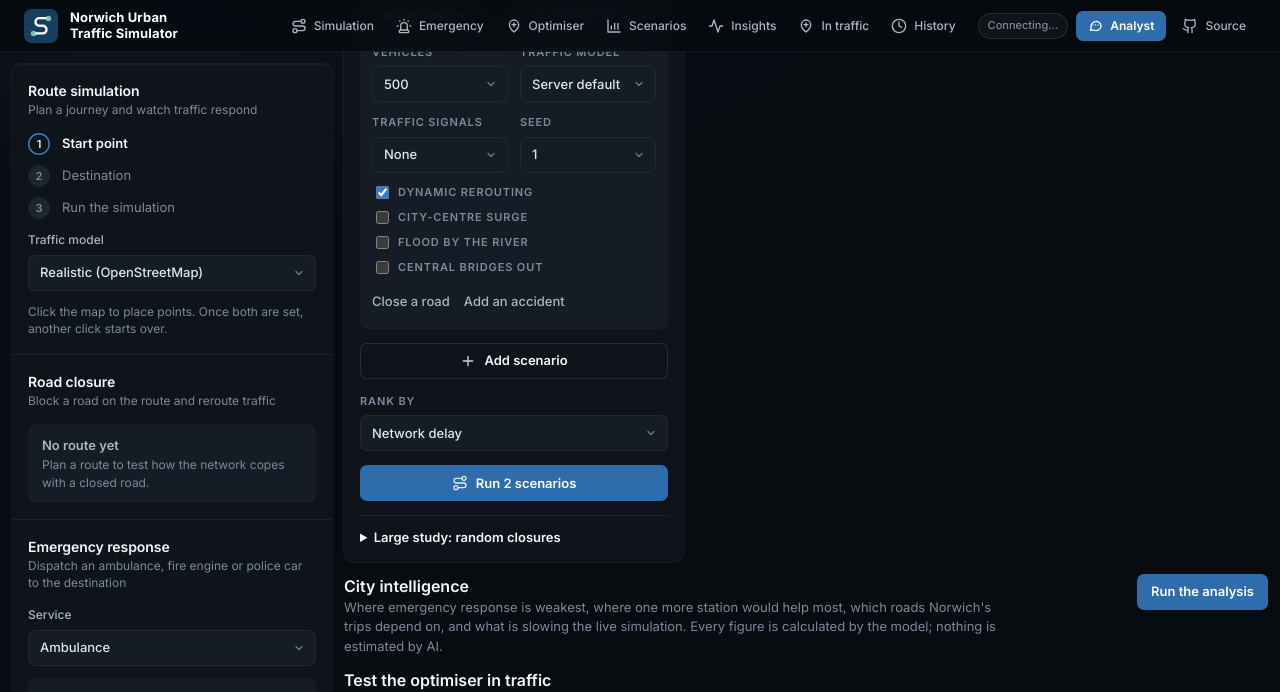
Test case: building scenarios › adds and removes scenarios
(page scrolled)
Click the button "Add scenario" at (514, 361), box 360,343 -> 668,379
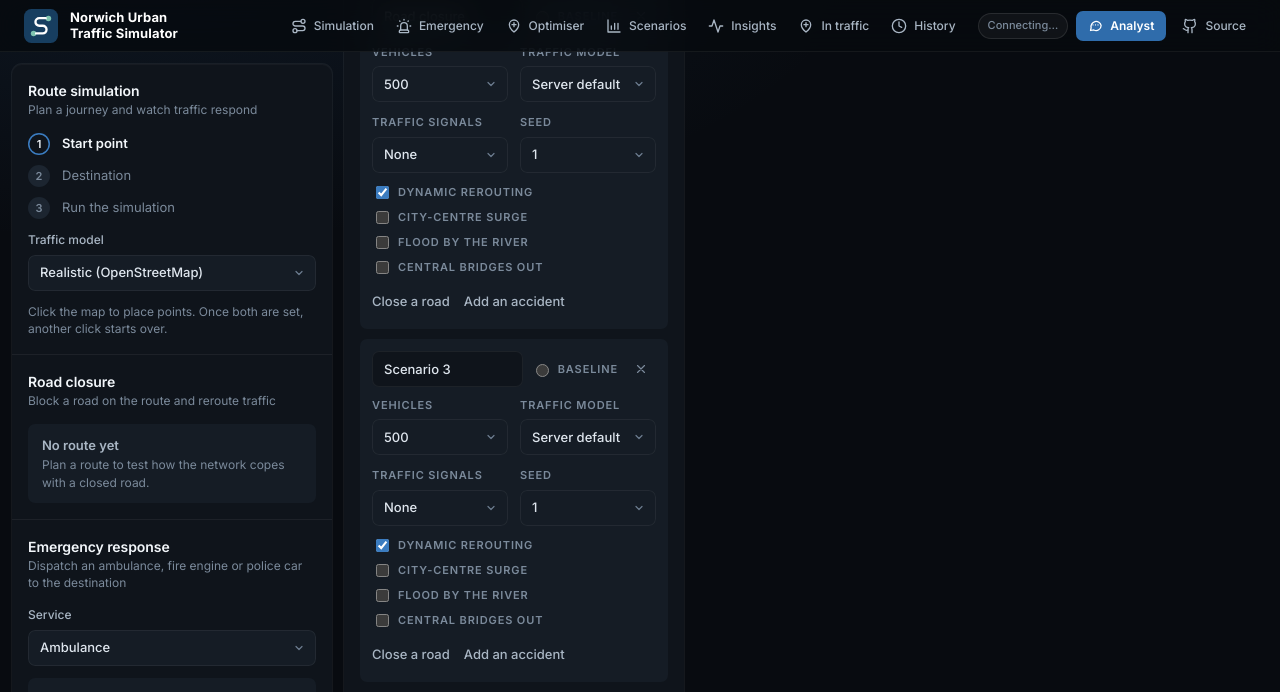
Click the button named "Remove Scenario 3" at (641, 369), box 626,354 -> 656,384
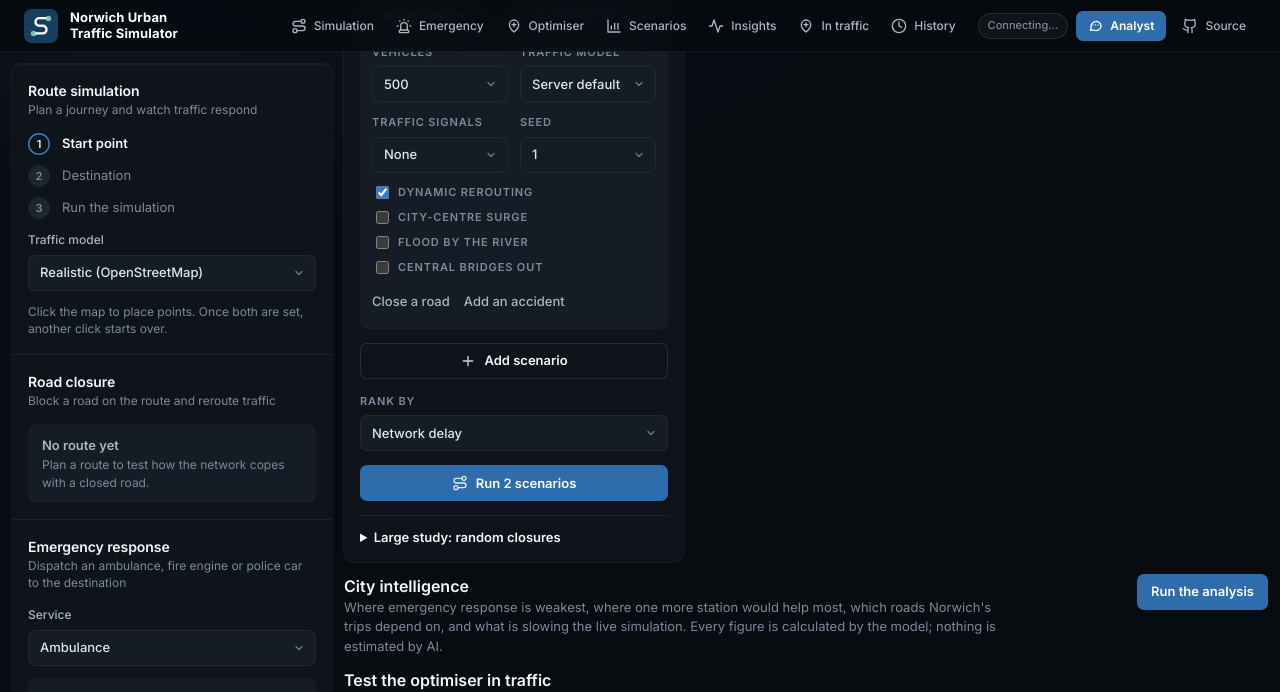
Check: the button "Run 2 scenarios" is shown, box 360,465 -> 668,501
